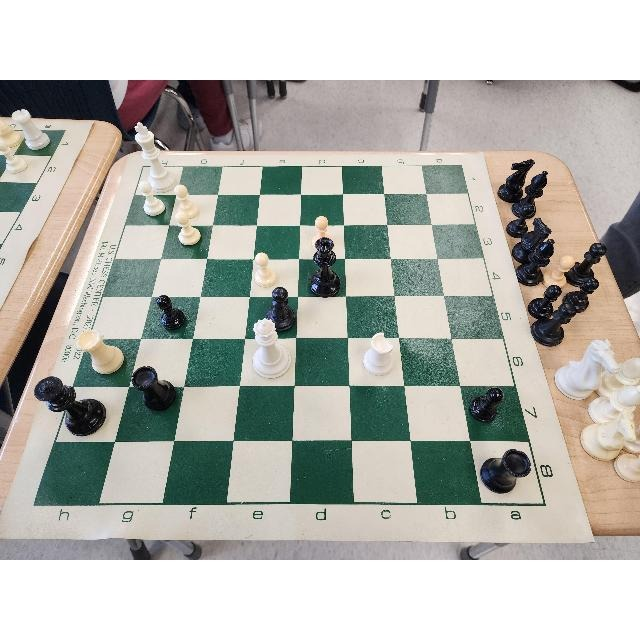black-bishop: (516, 238, 556, 285), (511, 170, 549, 218)
black-king: (32, 375, 107, 434)
black-pawn: (563, 241, 607, 287), (512, 216, 551, 263), (498, 157, 534, 200), (562, 277, 600, 313), (468, 387, 503, 422), (156, 295, 188, 333), (269, 287, 295, 333), (529, 283, 561, 316), (506, 203, 534, 237)
black-rook: (480, 449, 532, 491), (131, 365, 175, 409)
white-king: (134, 121, 178, 189)
white-knight: (553, 337, 619, 398), (582, 408, 636, 459)
white-pawn: (588, 387, 639, 426), (544, 255, 576, 289), (140, 181, 166, 217), (172, 212, 200, 245), (1, 142, 29, 174), (174, 184, 199, 216), (254, 252, 277, 285), (313, 216, 331, 248)
white-queen: (252, 317, 292, 381)
white-rook: (78, 330, 126, 376), (12, 109, 51, 150), (364, 333, 396, 377)
